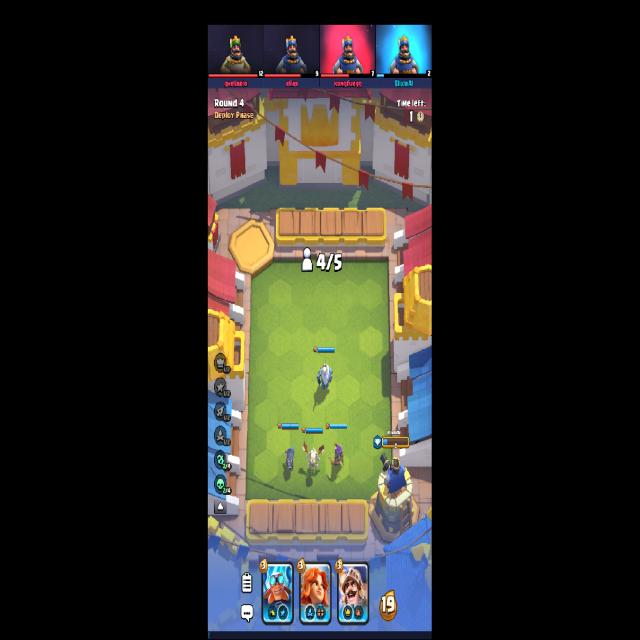archer_queen: (329, 441, 345, 471)
card_electro_giant: (262, 559, 292, 625)
card_prince: (338, 562, 370, 626)
card_valkyrie: (300, 561, 331, 623)
musketeer: (285, 446, 295, 470)
royal_ghost: (316, 363, 333, 391)
skeleton_dragon: (302, 439, 324, 474)
